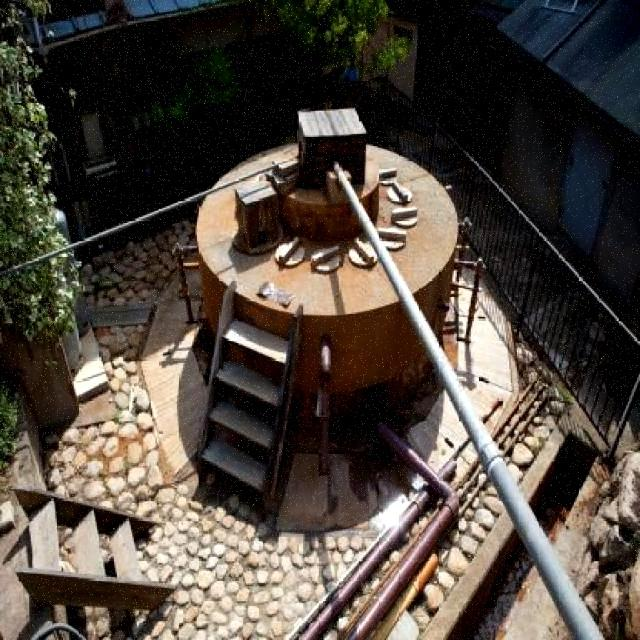stair: (202, 315, 292, 497), (28, 497, 144, 580)
